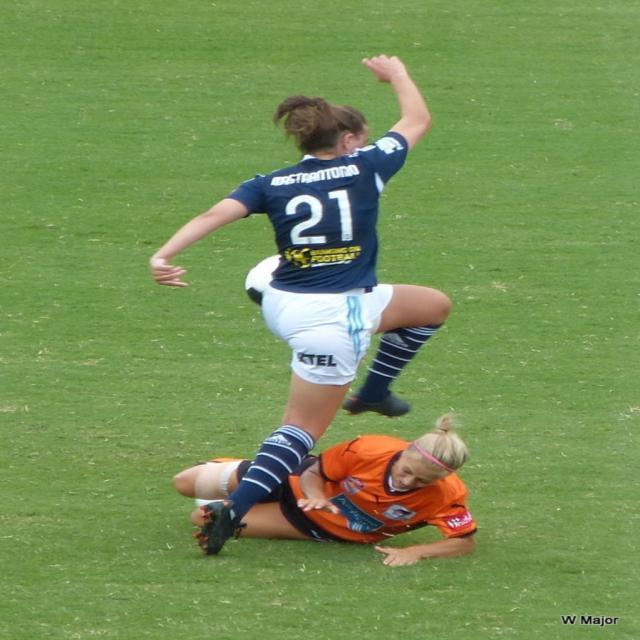ball: (244, 250, 278, 304)
